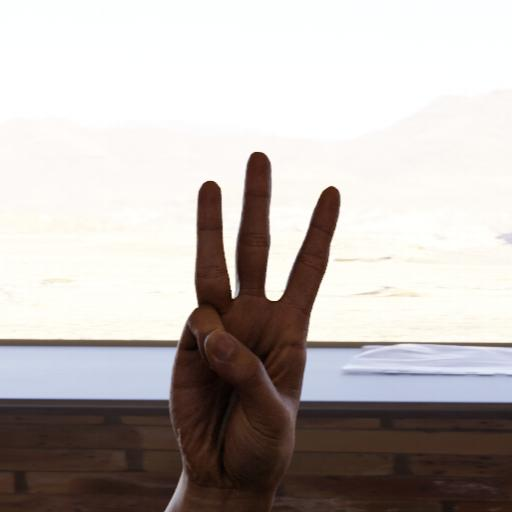W: (158, 141, 359, 503)
